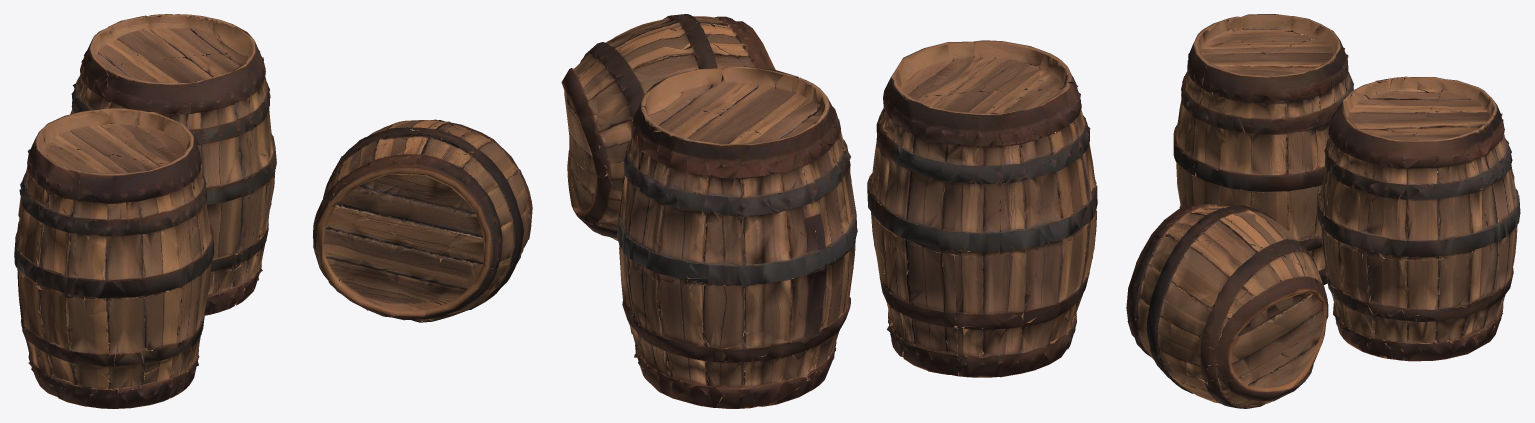
Rendered from barrel-group.glb.
The picture shows the model from 3 angles, left to right: view 1: azimuth 30°, elevation 25°; view 2: azimuth 150°, elevation 25°; view 3: azimuth 270°, elevation 25°; orthographic projection. The views are drawn at different scales.
Parts seen in each view (by area): view 1: Mesh_0; view 2: Mesh_0; view 3: Mesh_0.
Boxes of the visible parts, bbox=[...] form: Mesh_0: bbox=[14, 14, 532, 408]; Mesh_0: bbox=[561, 14, 1097, 408]; Mesh_0: bbox=[1126, 14, 1520, 408].
Size of the model in its own units: 1.9 by 0.8934 by 1.45.
1 material, 1 textured.
